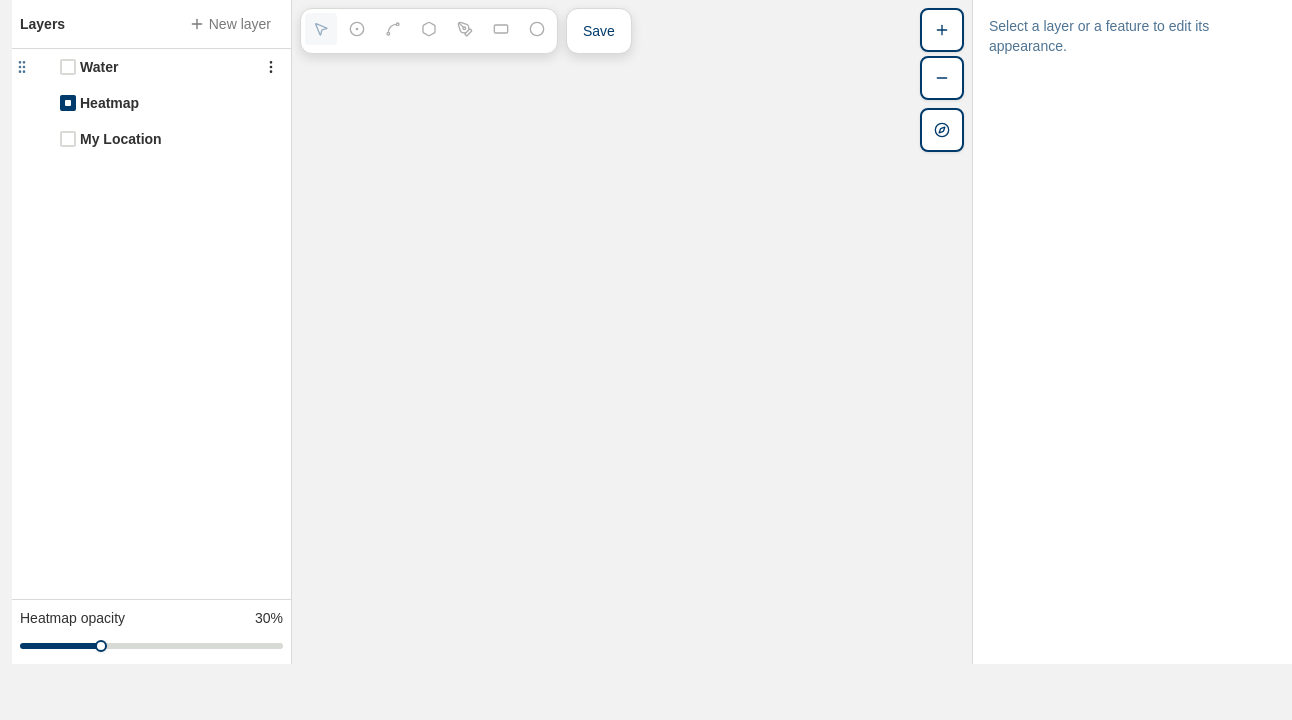
Test: WorkspacePage › selects the heatmap row and reveals a single dynamic opacity slider, deselecting any workspace layer and leaving the style editor untouched
The width and height of the screenshot is (1292, 720).
Click the button "Water" at (168, 67), box x1=80 y1=57 x2=255 y2=77
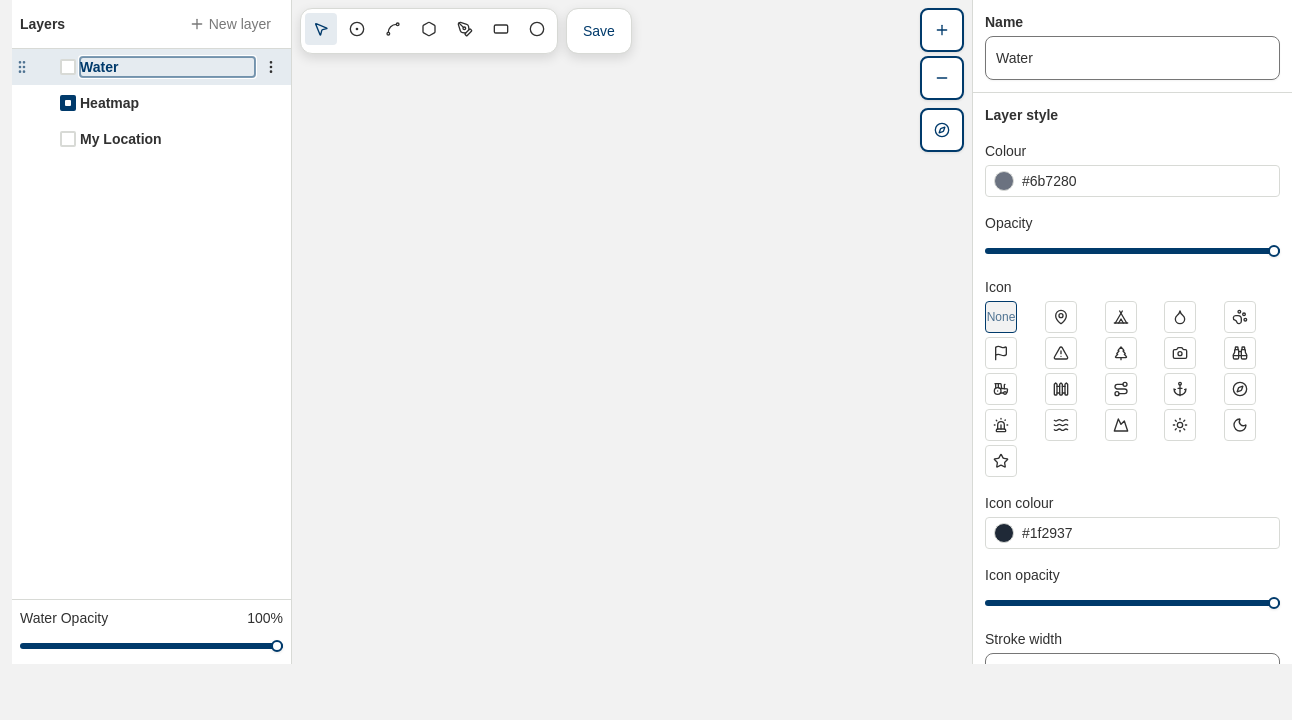
Expected: the button "Water" is marked as current, x1=80 y1=57 x2=255 y2=77
Click the button "Heatmap" at (182, 103), box x1=80 y1=93 x2=283 y2=113
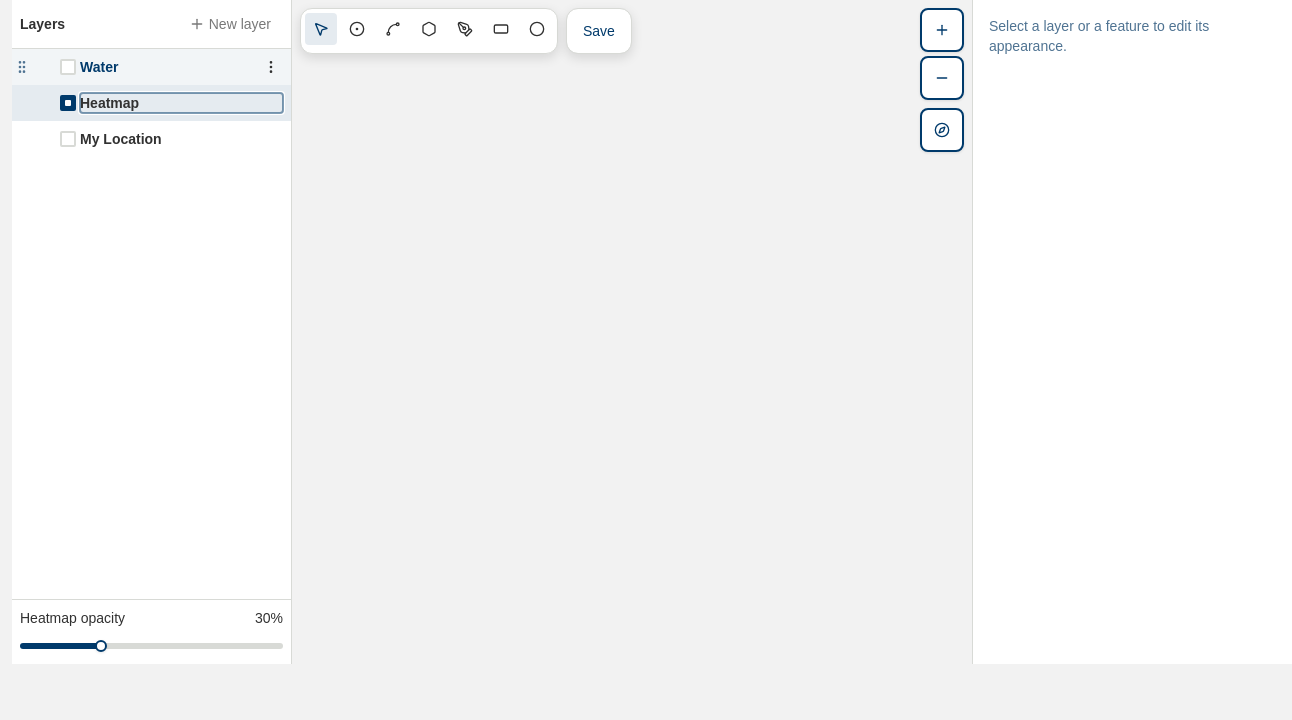
Expected: the number of sliders named "Heatmap opacity" is 1, x1=20 y1=643 x2=283 y2=649
Expected: the text "Select a layer or a feature to edit its appearance." is shown, x1=989 y1=18 x2=1209 y2=54
Click the button "Water" at (168, 67), box x1=80 y1=57 x2=255 y2=77
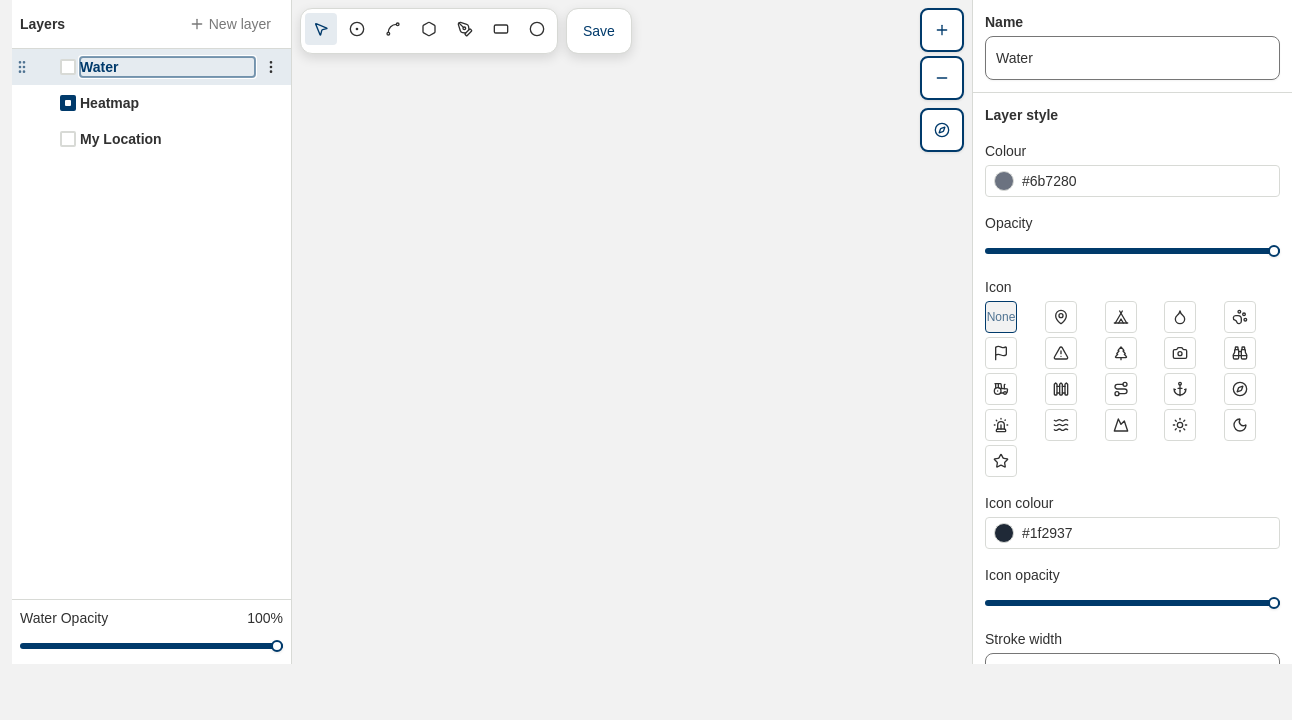
Expected: the text labelled "Heatmap opacity" is gone
